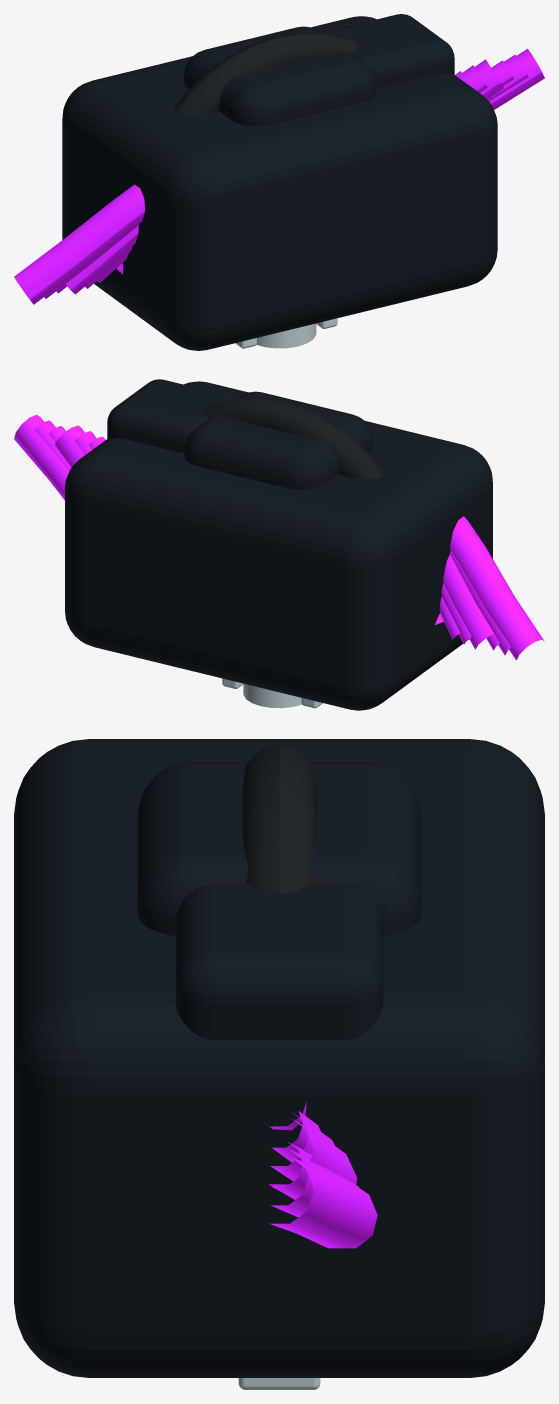
File: electrical_12.glb
The picture shows the model from 3 angles, top to bottom: view 1: azimuth 30°, elevation 25°; view 2: azimuth 150°, elevation 25°; view 3: azimuth 270°, elevation 25°; orthographic projection. The views are drawn at different scales.
Parts seen in each view (by area): view 1: asset_mesh__electrical_0593__reference_body, asset_mesh__electrical_0619__sensor_body, asset_mesh__electrical_0575__current_path, asset_mesh__electrical_0619__connector, asset_mesh__electrical_0557__service_element, asset_mesh__electrical_0572__current_path, asset_mesh__electrical_0619__sensor_probe, asset_mesh__electrical_0574__current_path, asset_mesh__electrical_0598__current_path; view 2: asset_mesh__electrical_0593__reference_body, asset_mesh__electrical_0619__sensor_body, asset_mesh__electrical_0575__current_path, asset_mesh__electrical_0619__connector, asset_mesh__electrical_0557__service_element, asset_mesh__electrical_0572__current_path, asset_mesh__electrical_0574__current_path, asset_mesh__electrical_0619__sensor_probe, asset_mesh__electrical_0598__current_path, asset_mesh__electrical_0597__current_path; view 3: asset_mesh__electrical_0593__reference_body, asset_mesh__electrical_0619__connector, asset_mesh__electrical_0619__sensor_body, asset_mesh__electrical_0557__service_element, asset_mesh__electrical_0575__current_path, asset_mesh__electrical_0572__current_path, asset_mesh__electrical_0580__blade_3, asset_mesh__electrical_0574__current_path.
Boxes of the visible parts, <box> form: asset_mesh__electrical_0593__reference_body: <box>62,16,497,350</box>; asset_mesh__electrical_0619__sensor_body: <box>183,26,376,126</box>; asset_mesh__electrical_0575__current_path: <box>14,48,544,304</box>; asset_mesh__electrical_0619__connector: <box>323,14,454,89</box>; asset_mesh__electrical_0557__service_element: <box>174,32,357,115</box>; asset_mesh__electrical_0572__current_path: <box>65,59,503,294</box>; asset_mesh__electrical_0619__sensor_probe: <box>256,323,316,348</box>; asset_mesh__electrical_0574__current_path: <box>44,54,528,298</box>; asset_mesh__electrical_0598__current_path: <box>85,65,487,288</box>; asset_mesh__electrical_0593__reference_body: <box>65,381,492,710</box>; asset_mesh__electrical_0619__sensor_body: <box>184,391,373,489</box>; asset_mesh__electrical_0575__current_path: <box>14,414,544,660</box>; asset_mesh__electrical_0619__connector: <box>107,379,235,453</box>; asset_mesh__electrical_0557__service_element: <box>203,397,383,479</box>; asset_mesh__electrical_0572__current_path: <box>55,425,493,649</box>; asset_mesh__electrical_0574__current_path: <box>34,420,511,655</box>; asset_mesh__electrical_0619__sensor_probe: <box>243,683,301,708</box>; asset_mesh__electrical_0598__current_path: <box>74,431,471,644</box>; asset_mesh__electrical_0597__current_path: <box>89,436,460,639</box>; asset_mesh__electrical_0593__reference_body: <box>14,739,544,1377</box>; asset_mesh__electrical_0619__connector: <box>175,884,383,1040</box>; asset_mesh__electrical_0619__sensor_body: <box>137,762,421,935</box>; asset_mesh__electrical_0557__service_element: <box>241,745,317,893</box>; asset_mesh__electrical_0575__current_path: <box>269,1157,377,1248</box>; asset_mesh__electrical_0572__current_path: <box>269,1118,357,1199</box>; asset_mesh__electrical_0580__blade_3: <box>238,1378,320,1389</box>; asset_mesh__electrical_0574__current_path: <box>271,1149,359,1217</box>.
Size of the model in its own units: 1.73 by 0.9273 by 0.7728.
